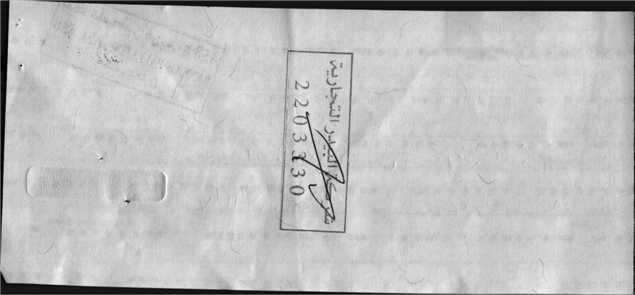stamp: (279, 49, 355, 234)
